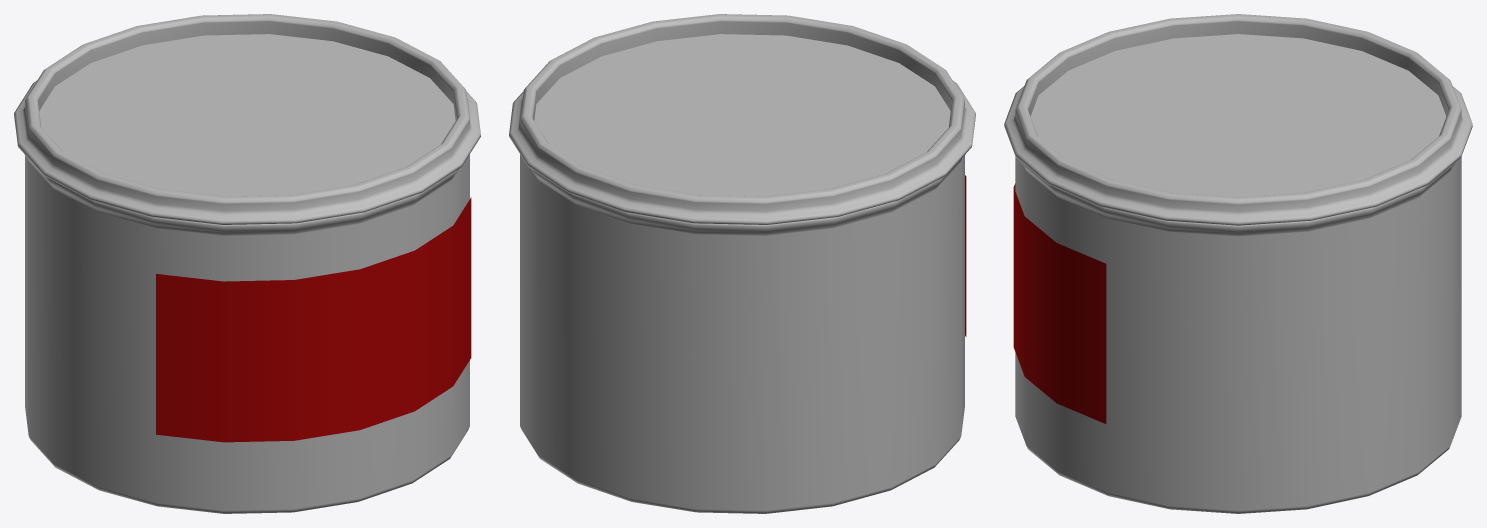
Rendered from SM_paintCan_1.fbx.
The picture shows the model from 3 angles, left to right: view 1: azimuth 30°, elevation 25°; view 2: azimuth 150°, elevation 25°; view 3: azimuth 270°, elevation 25°; orthographic projection.
Parts seen in each view (by area): view 1: SM_paintCan_1; view 2: SM_paintCan_1; view 3: SM_paintCan_1.
Part boxes in pixels (<box>): SM_paintCan_1: <box>14,14,480,513</box>; SM_paintCan_1: <box>509,14,975,513</box>; SM_paintCan_1: <box>1004,14,1472,513</box>.
Bounding box in the file's own units: 0.1905 × 0.1416 × 0.1905.
